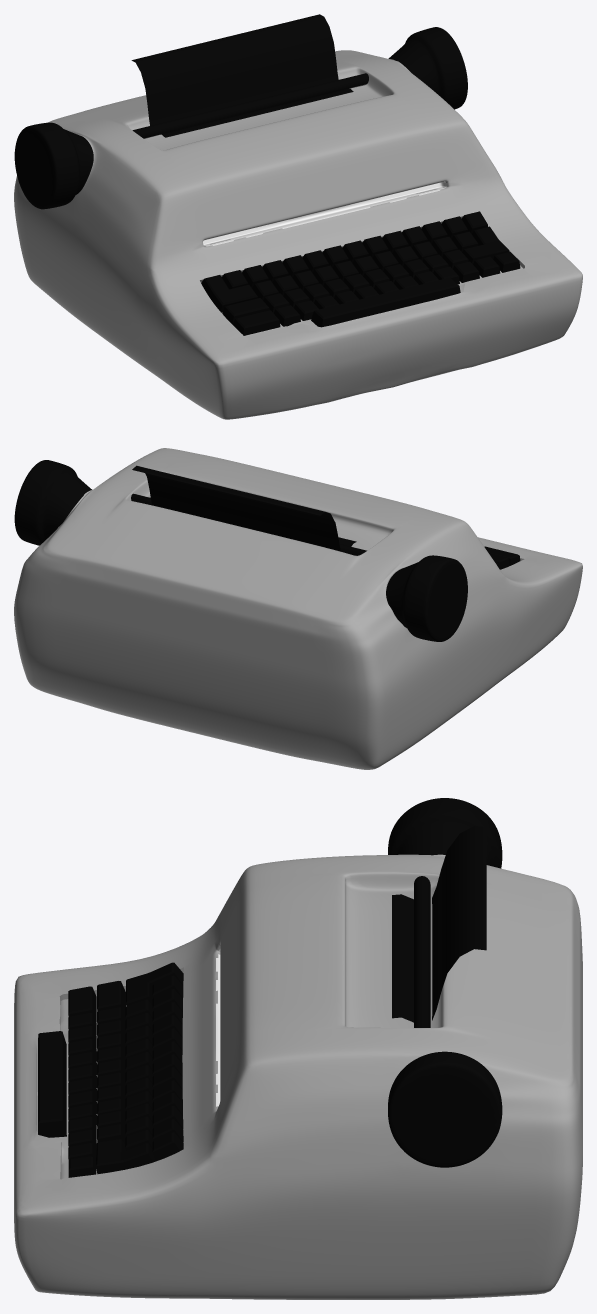
Rendered from Typewritter.fbx.
3 views of the same model, one above another, from view 1: azimuth 30°, elevation 25°; view 2: azimuth 150°, elevation 25°; view 3: azimuth 270°, elevation 25° (orthographic). The views are drawn at different scales.
Parts seen in each view (by area): view 1: Base1, Paper, knob, knob1, Space_Bar, Typebar, Slit, L_key, pCube17, pCube15, pCube16; view 2: Base1, Paper, knob, knob1; view 3: Base1, knob1, Paper, knob, Space_Bar, Typebar, pCube17, L_key, pCube16, pCube15, Slit.
Boxes of the visible parts, x1,y1,x2,y2 form: Base1: (14,50,582,419); Paper: (131,14,353,137); knob: (14,122,93,209); knob1: (388,27,467,109); Space_Bar: (311,277,460,327); Typebar: (132,73,368,138); Slit: (203,181,447,246); L_key: (201,275,257,312); pCube17: (462,226,509,264); pCube15: (233,310,280,335); pCube16: (222,298,269,324); Base1: (14,448,582,769); Paper: (132,465,356,551); knob: (386,555,467,641); knob1: (14,460,92,545); Base1: (14,854,582,1299); knob1: (388,1051,502,1167); Paper: (392,826,486,1022); knob: (388,798,502,868); Space_Bar: (38,1031,66,1137); Typebar: (414,876,430,1027); pCube17: (96,1139,155,1174); L_key: (126,962,183,1005); pCube16: (97,981,125,1016); pCube15: (68,986,96,1021); Slit: (216,949,220,1106).
Bounding box in the file's own units: 6.45 × 3.47 × 5.7.
Materials: 6 (1 with a texture image).
